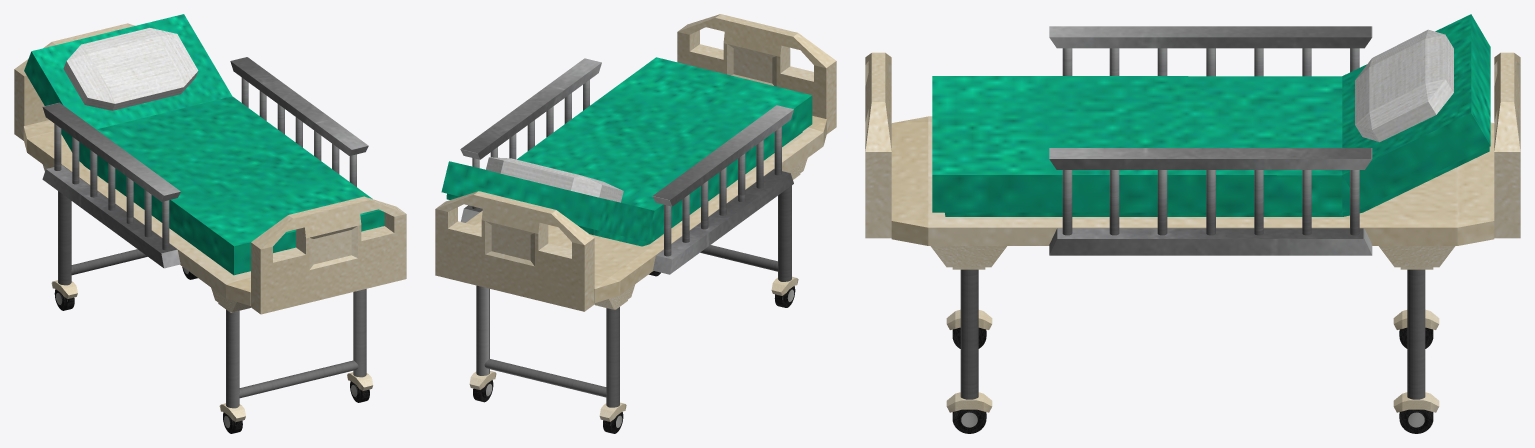
File: Maca.fbx
The picture shows the model from 3 angles, left to right: view 1: azimuth 30°, elevation 25°; view 2: azimuth 150°, elevation 25°; view 3: azimuth 270°, elevation 25°; orthographic projection. The views are drawn at different scales.
Parts seen in each view (by area): view 1: Colchão, Pontas, Base-Braço, Travesseiro, Pernas, Base-baixo-colchao, Base-cima-roda, Rodinhas; view 2: Colchão, Pontas, Base-Braço, Pernas, Base-baixo-colchao, Travesseiro, Base-cima-roda, Rodinhas; view 3: Colchão, Base-Braço, Base-baixo-colchao, Pontas, Travesseiro, Pernas, Base-cima-roda, Rodinhas.
Part boxes in pixels (x1,y1,x2,y2): Colchão: (24, 14, 384, 275); Pontas: (14, 23, 406, 314); Base-Braço: (42, 57, 368, 268); Travesseiro: (63, 28, 198, 110); Pernas: (42, 164, 366, 408); Base-baixo-colchao: (23, 120, 250, 305); Base-cima-roda: (51, 280, 373, 422); Rodinhas: (54, 266, 369, 433); Colchão: (441, 57, 812, 246); Pontas: (435, 14, 836, 311); Base-Braço: (460, 58, 793, 274); Pernas: (476, 158, 807, 407); Base-baixo-colchao: (466, 116, 826, 302); Travesseiro: (486, 157, 623, 202); Base-cima-roda: (469, 276, 798, 421); Rodinhas: (473, 271, 795, 433); Colchão: (932, 14, 1490, 216); Base-Braço: (1049, 26, 1372, 255); Base-baixo-colchao: (891, 116, 1494, 245); Pontas: (865, 52, 1520, 238); Travesseiro: (1355, 29, 1453, 142); Pernas: (930, 246, 1455, 399); Base-cima-roda: (946, 309, 1439, 412); Rodinhas: (952, 327, 1433, 433).
Size of the model in its own units: 262 by 305 by 546.
